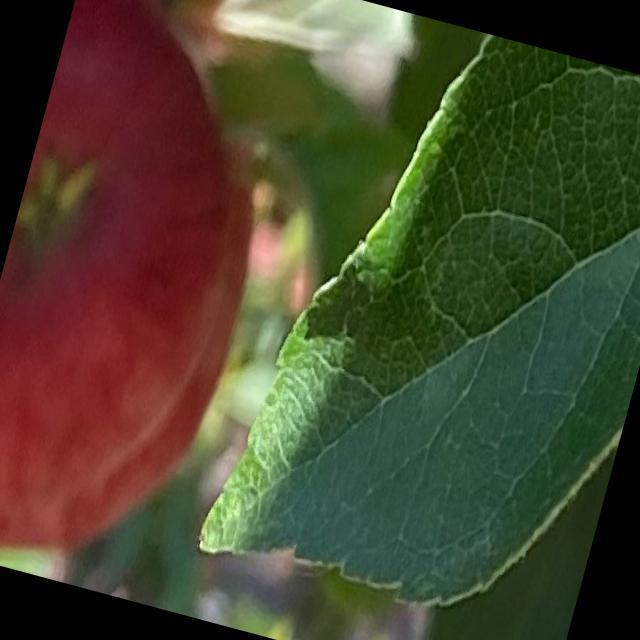100-_ripeness: (0, 0, 315, 593)
